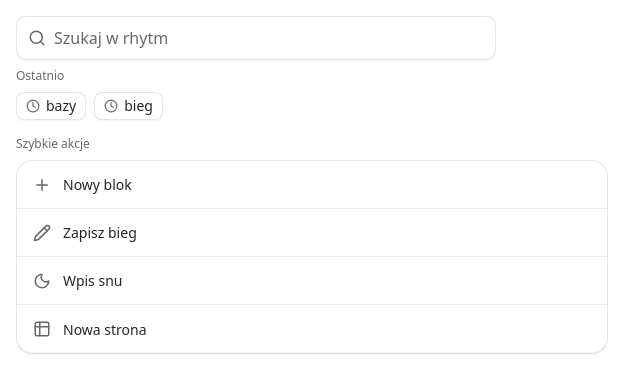
SearchView › „Ostatnio” z localStorage; stuknięcie wpisuje frazę
expect the text "Ostatnio" is shown: met, box x1=16 y1=67 x2=64 y2=84
Click the button "bazy": (51,106) x1=16 y1=92 x2=86 y2=120
Wait 250 ms
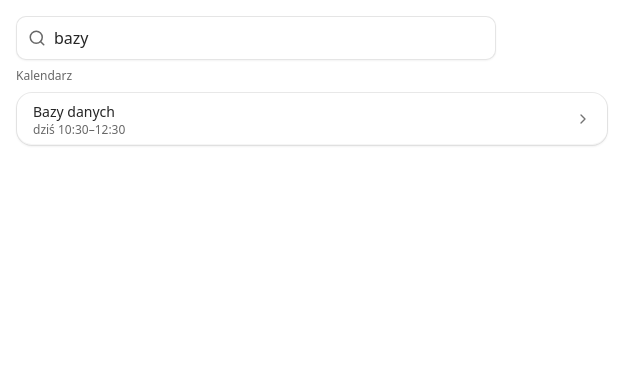
expect the search field named "Szukaj" holds "bazy": met, box x1=54 y1=17 x2=484 y2=59
